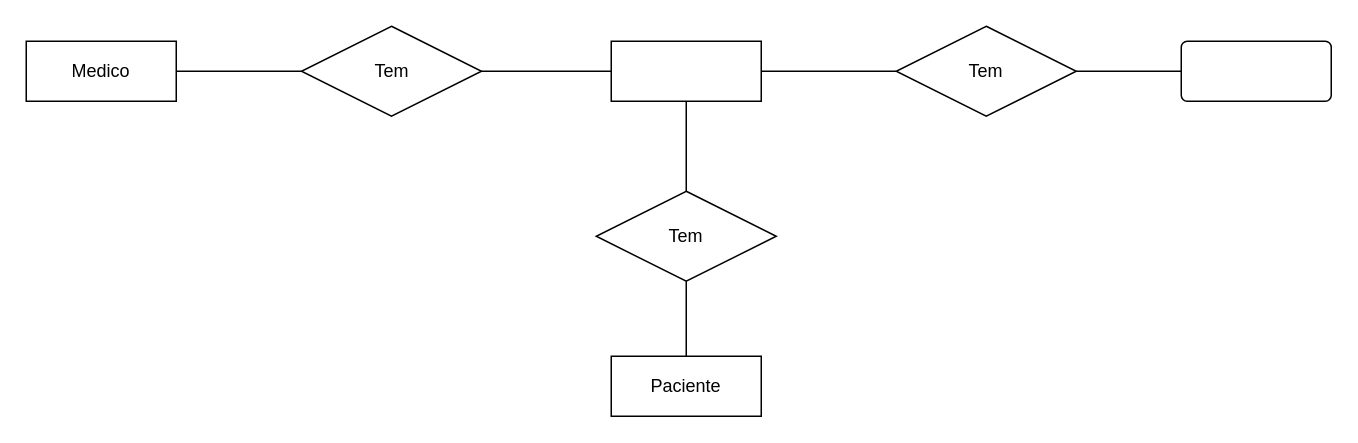
This 1358x443 diagram has some shape labels left out. Here are the shapes that lost their labels. From the top down, the centre of each, then its label:
At pixel 685 70: "Consulta".
At pixel 1255 70: "Clinica".
